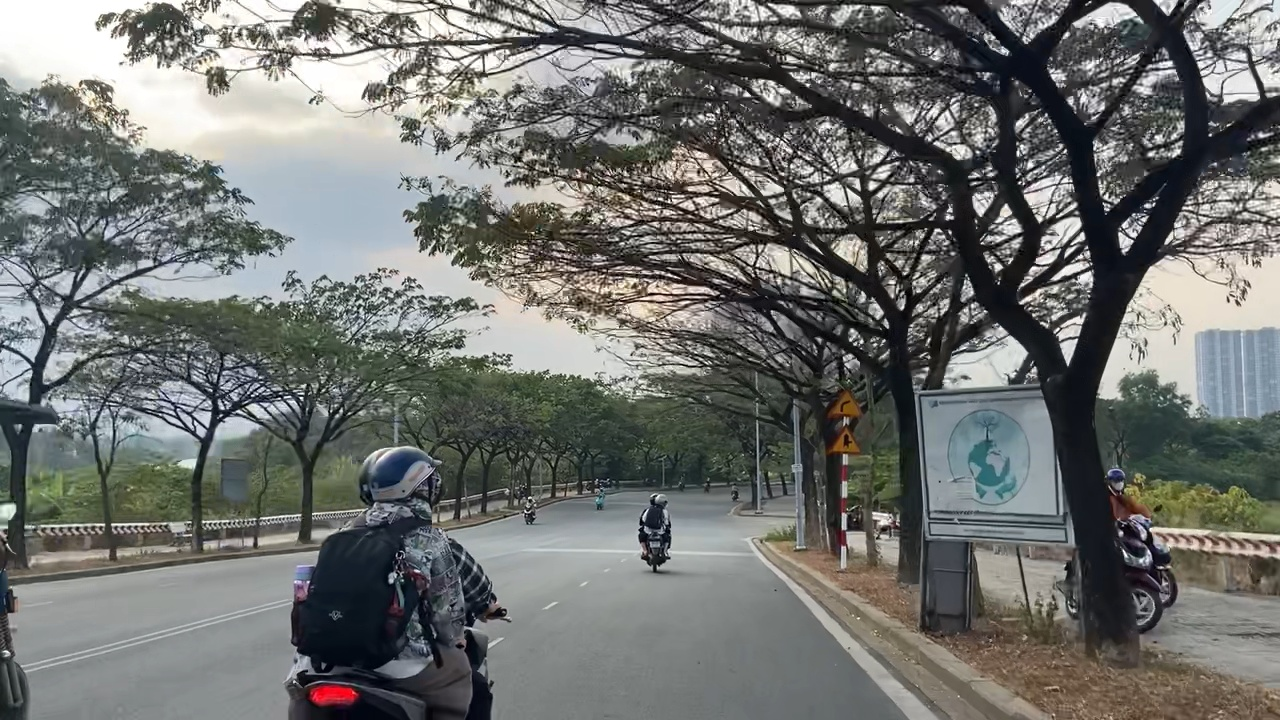duong_nghieng_phai: (827, 387, 866, 422)
giao_khong_uu_tien_phai: (830, 425, 863, 457)
